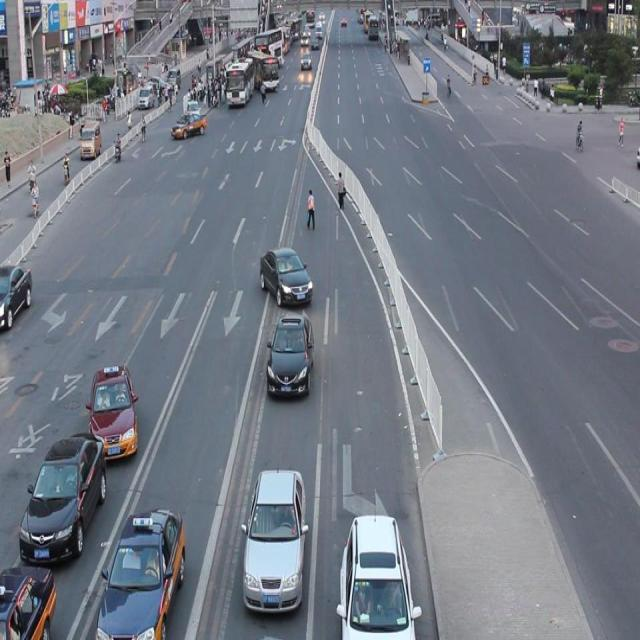BigCar: (229, 451, 321, 633), (248, 45, 284, 94), (225, 58, 254, 117)
car: (98, 511, 198, 640), (334, 512, 416, 640), (28, 412, 92, 566), (76, 356, 141, 458), (266, 310, 312, 406), (261, 243, 316, 313), (78, 114, 104, 164), (176, 107, 208, 143)
